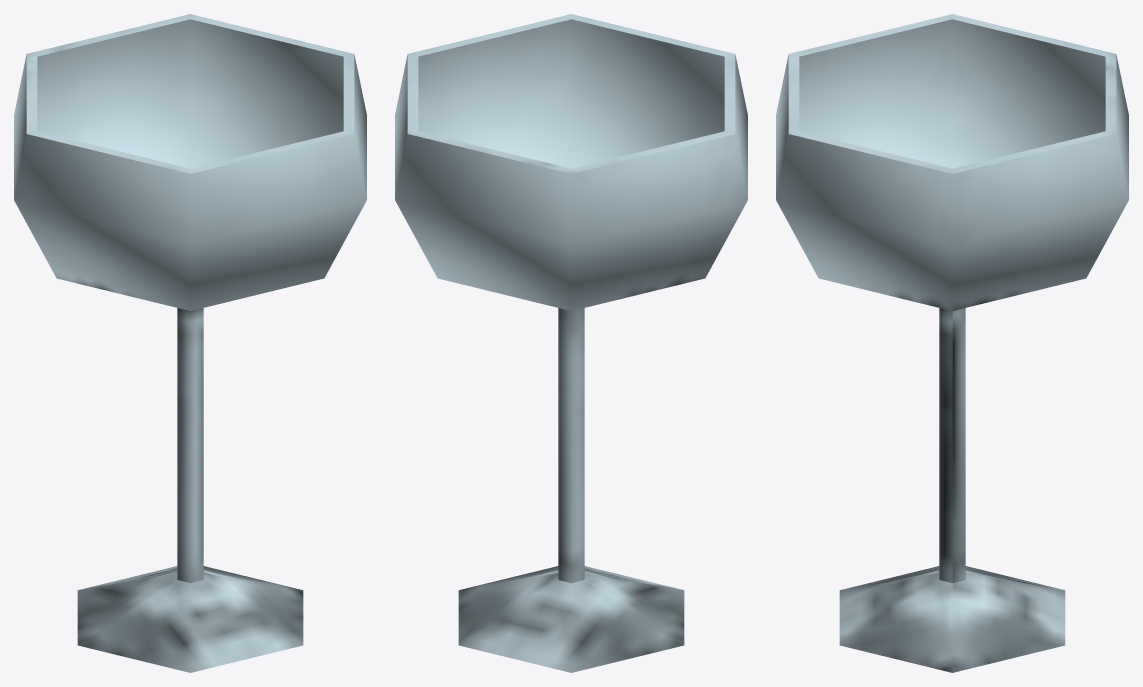
File: EmptyGlassV4.fbx
The picture shows the model from 3 angles, left to right: view 1: azimuth 30°, elevation 25°; view 2: azimuth 150°, elevation 25°; view 3: azimuth 270°, elevation 25°; orthographic projection.
Visible parts, largest first — view 1: Glasses.012; view 2: Glasses.012; view 3: Glasses.012.
Boxes of the visible parts, x1,y1,x2,y2 form: Glasses.012: [14, 14, 366, 672]; Glasses.012: [395, 14, 747, 672]; Glasses.012: [776, 14, 1128, 672].
Size of the model in its own units: 0.1821 by 0.2585 by 0.1577.
